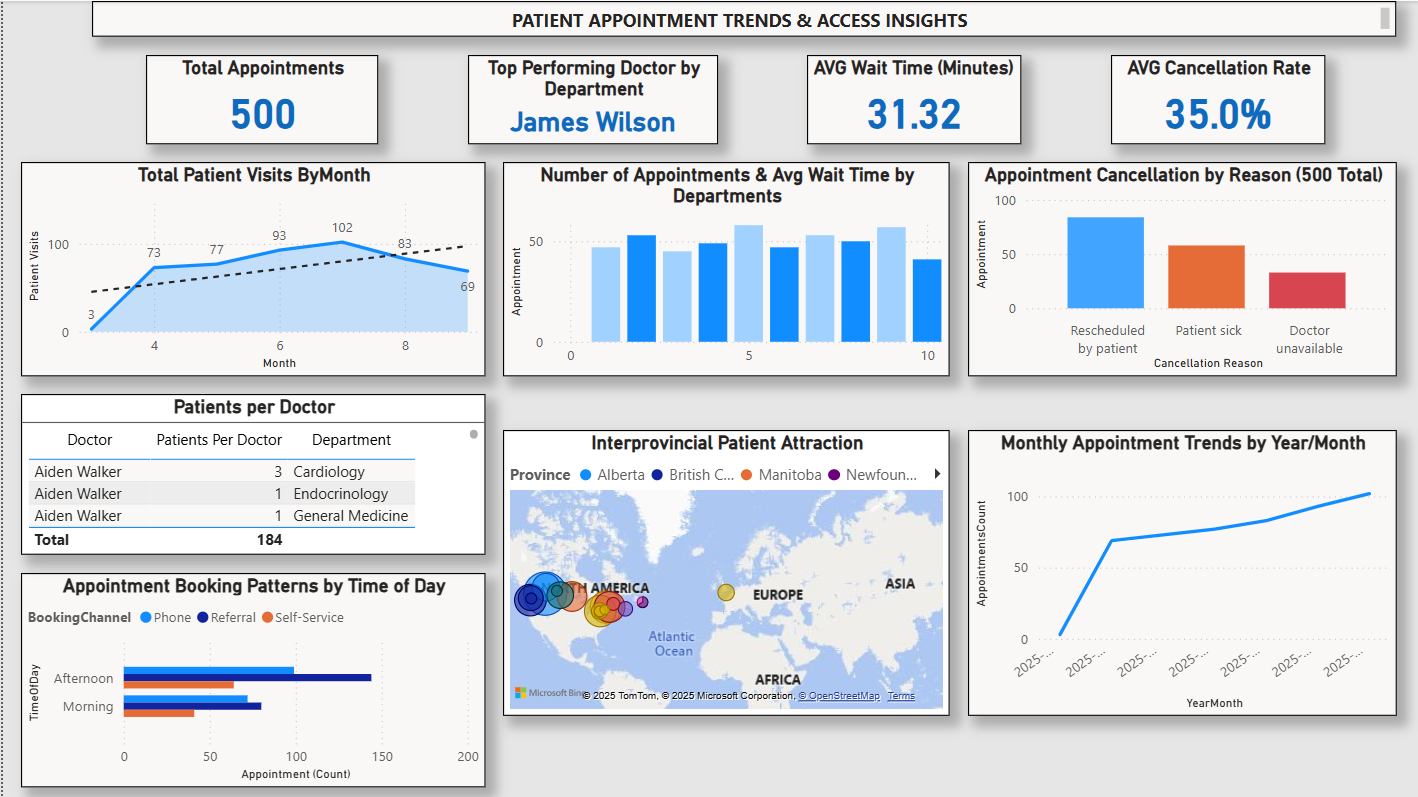

This screenshot's page, from the dashboard's own definition file:
{"tool":"powerbi","page":{"name":"BP_1_PatientAppointmentsTrends","canvas":[1280,720],"ordinal":0},"visuals":[{"type":"columnChart","title":"Appointment Cancellation by Reason (500 Total)","fields":{"Category":["FACT_APPOINTMENT.CancellationReason"],"Y":["FACT_APPOINTMENT.AppointmentID"]},"box":[864,144,384,192],"z":0},{"type":"areaChart","title":"Total Patient Visits ByMonth","fields":{"Category":["DIM_Date.Month"],"Y":["FACT_APPOINTMENT.Total Patient Visits"]},"box":[16,144,416,192],"z":1000},{"type":"card","title":"Total Appointments","fields":{"Values":["FACT_APPOINTMENT.AppointmentID"]},"box":[128,48,208,80],"z":2000},{"type":"card","title":"AVG Wait Time (Minutes)","fields":{"Values":["FACT_APPOINTMENT.Avg Wait Time (Minutes)"]},"box":[720,48,192,80],"z":3000},{"type":"columnChart","title":"Number of Appointments & Avg Wait Time by Departments","fields":{"Category":["DIM_Department.DepartmentID"],"Series":["DIM_Department.DepartmentName"],"Y":["FACT_APPOINTMENT.AppointmentID"]},"box":[448,144,400,192],"z":4000},{"type":"textbox","box":[80,0,1168,32],"z":5000},{"type":"card","title":"AVG Cancellation Rate","fields":{"Values":["Calculations.AvgCancellationRate"]},"box":[992,48,192,80],"z":6000},{"type":"map","title":"Interprovincial Patient Attraction","fields":{"Category":["DIM_Patient.City"],"Series":["DIM_Patient.Province"],"Size":["FACT_APPOINTMENT.AppointmentID"]},"box":[448,384,400,256],"z":7000},{"type":"lineChart","title":"Monthly Appointment Trends by Year/Month","fields":{"Category":["DIM_Date.YearMonth"],"Y":["FACT_APPOINTMENT.AppointmentsCount"]},"box":[864,384,384,256],"z":8000},{"type":"clusteredBarChart","title":"Appointment Booking Patterns by Time of Day","fields":{"Category":["FACT_APPOINTMENT.TimeOfDay"],"Series":["FACT_APPOINTMENT.BookingChannel"],"Y":["FACT_APPOINTMENT.AppointmentID"]},"box":[16,512,416,192],"z":9000},{"type":"card","title":"Top Performing Doctor by Department","fields":{"Values":["DIM_Doctor.TopDoctor"]},"box":[416,48,224,80],"z":10000},{"type":"tableEx","title":"Patients per Doctor","fields":{"Values":["DIM_Doctor.Doctor Full Name","DIM_Patient.PatientsPerDoctor","DIM_Department.DepartmentName"]},"box":[16,352,416,144],"z":11000}]}

Visuals, with their boxes in screenshot pixels (x1, y1, x2, y2), scaled from the page's 1280x720 canvas onto the 1418x797 screenshot:
"Appointment Cancellation by Reason (500 Total)" columnChart: BBox(957, 159, 1383, 372)
"Total Patient Visits ByMonth" areaChart: BBox(18, 159, 479, 372)
"Total Appointments" card: BBox(142, 53, 372, 142)
"AVG Wait Time (Minutes)" card: BBox(798, 53, 1010, 142)
"Number of Appointments & Avg Wait Time by Departments" columnChart: BBox(496, 159, 939, 372)
textbox: BBox(89, 0, 1383, 35)
"AVG Cancellation Rate" card: BBox(1099, 53, 1312, 142)
"Interprovincial Patient Attraction" map: BBox(496, 425, 939, 708)
"Monthly Appointment Trends by Year/Month" lineChart: BBox(957, 425, 1383, 708)
"Appointment Booking Patterns by Time of Day" clusteredBarChart: BBox(18, 567, 479, 779)
"Top Performing Doctor by Department" card: BBox(461, 53, 709, 142)
"Patients per Doctor" tableEx: BBox(18, 390, 479, 549)
